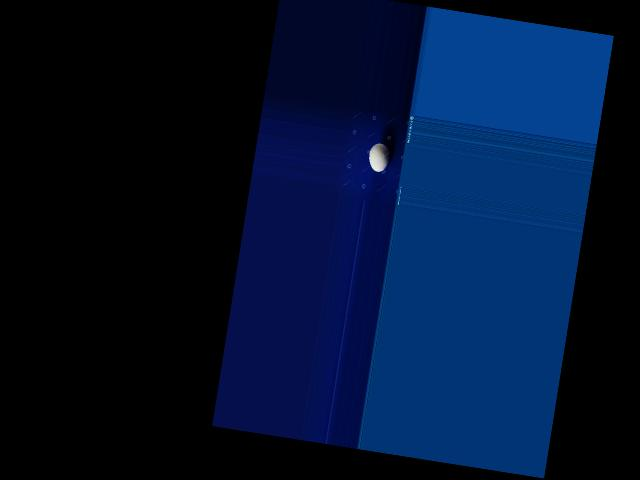egg: (367, 142, 391, 173)
